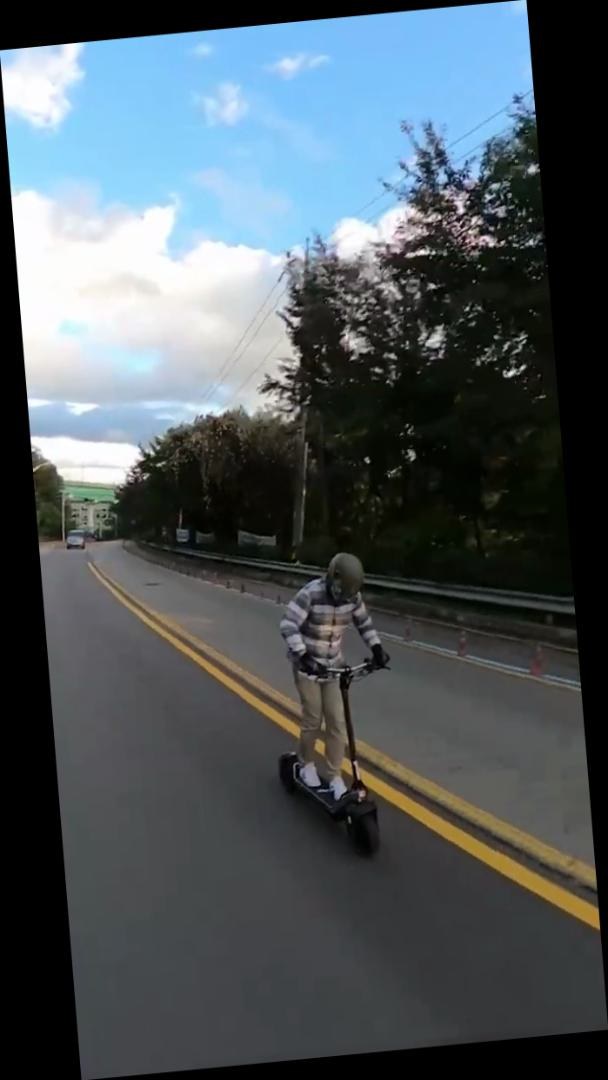helmet: (259, 543, 409, 871)
